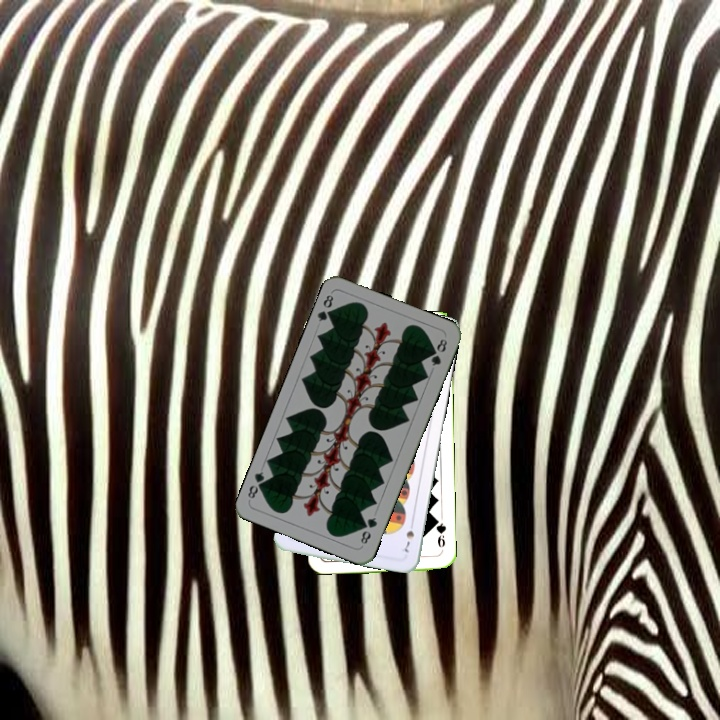G8: (356, 513, 380, 547), (314, 291, 338, 324)
G9: (431, 515, 448, 550)
S7: (400, 517, 417, 555)
